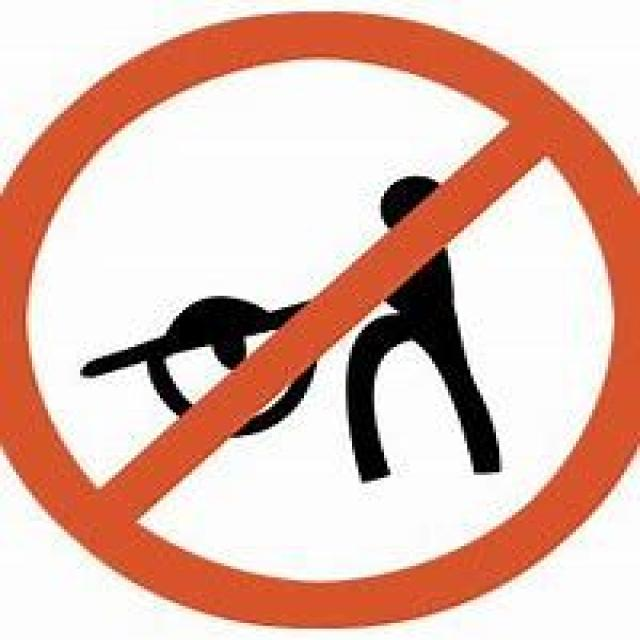railway_crossing: (0, 3, 637, 631)
